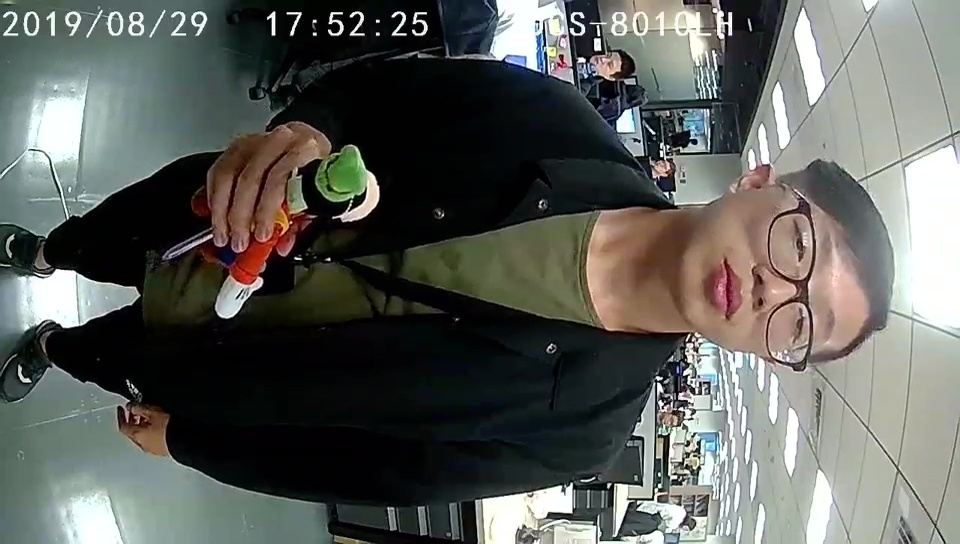goofy: (191, 145, 383, 320)
